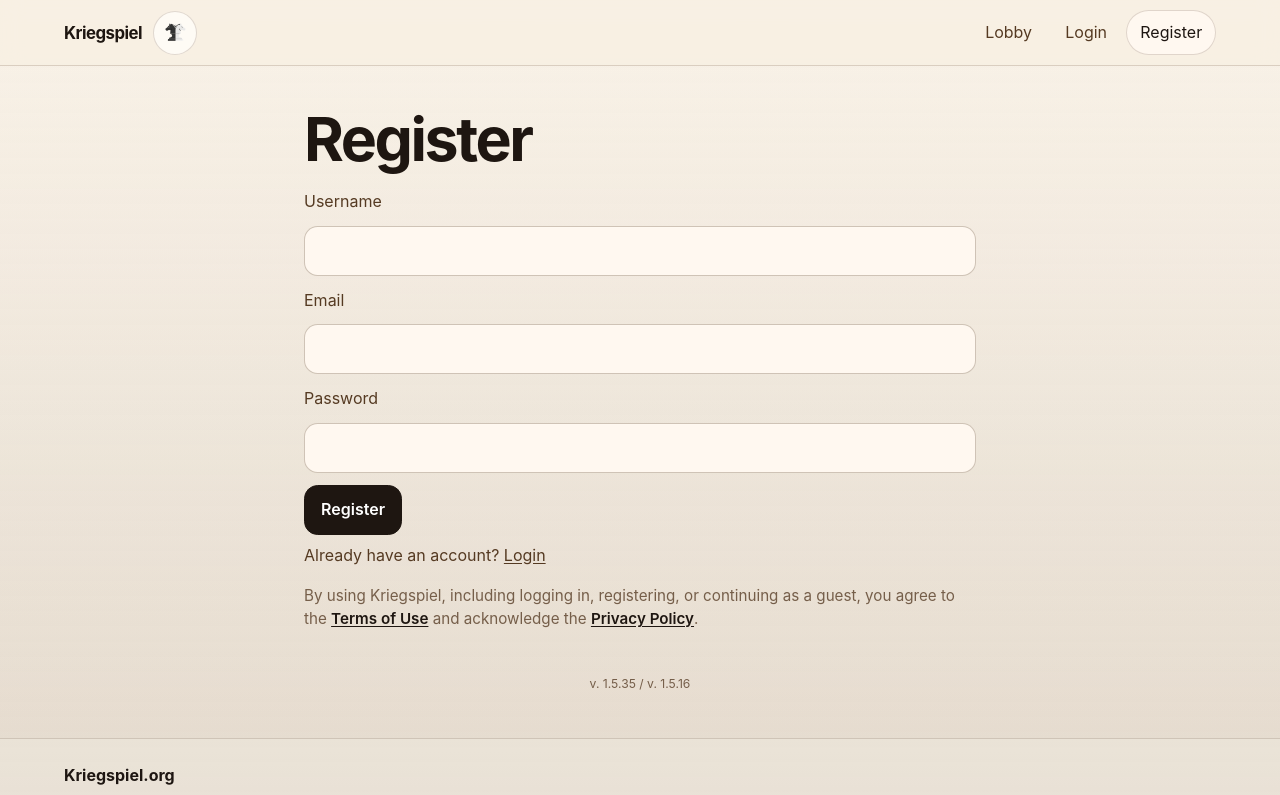
Test case: App routes › register_requires_username_email_password_and_redirects_to_lobby
Type "new_user" into the field labelled "Username" at (640, 251), box [304,226,976,276]
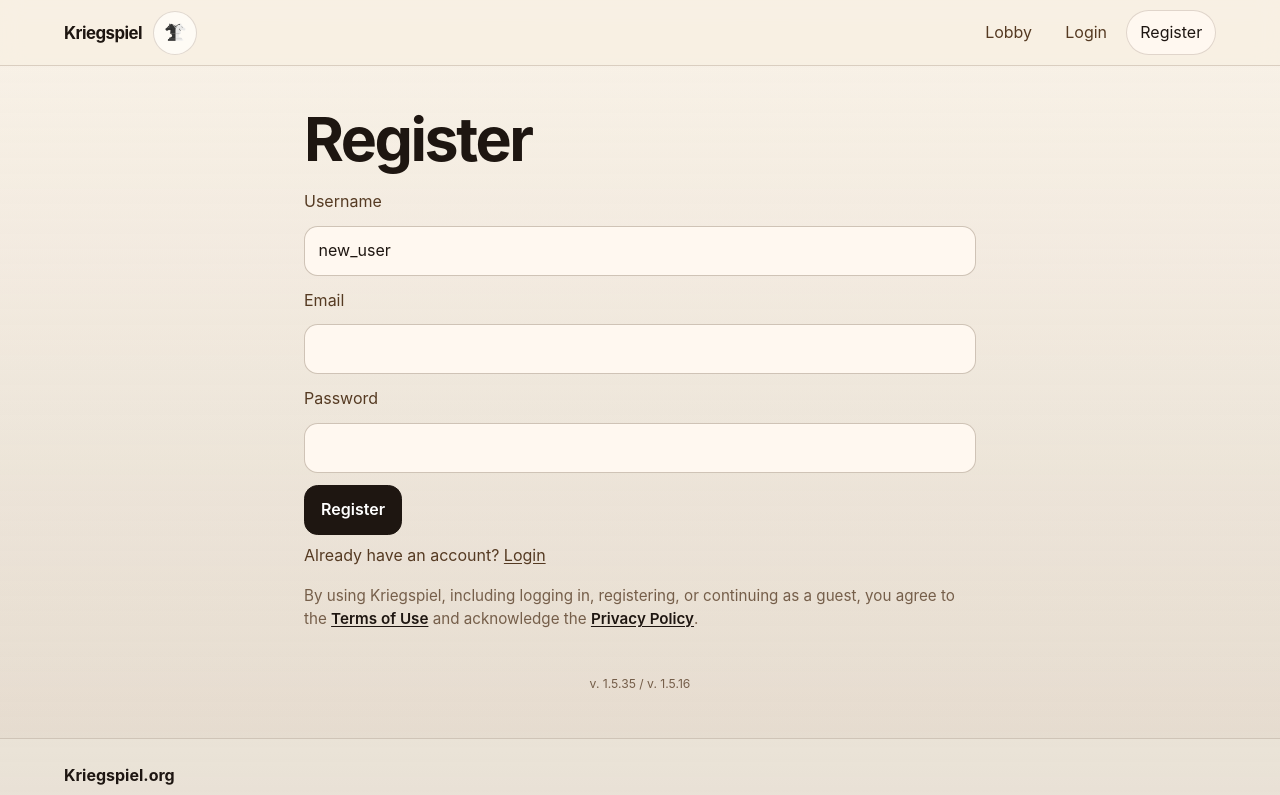
Type "new@example.com" into the field labelled "Email" at (640, 349), box [304,324,976,374]
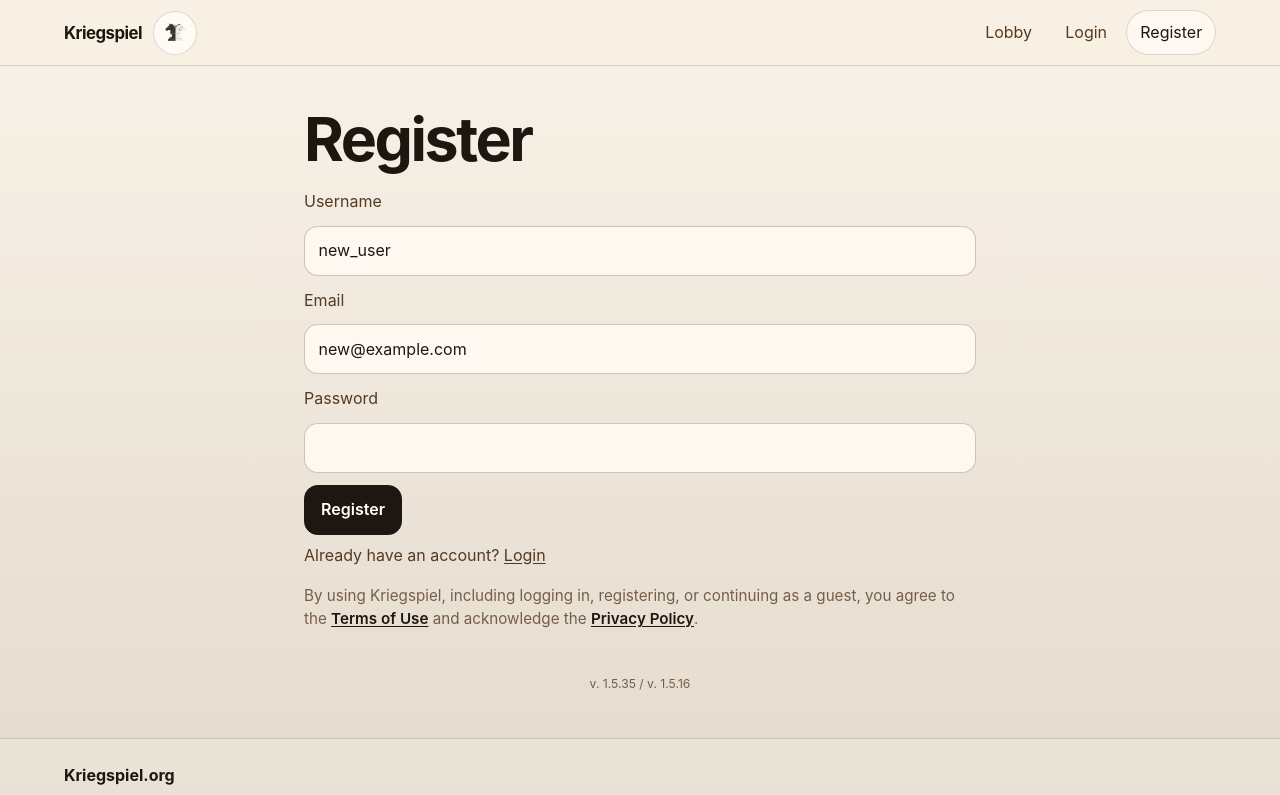
Type "secret123" into the password field labelled "Password" at (640, 448), box [304,423,976,473]
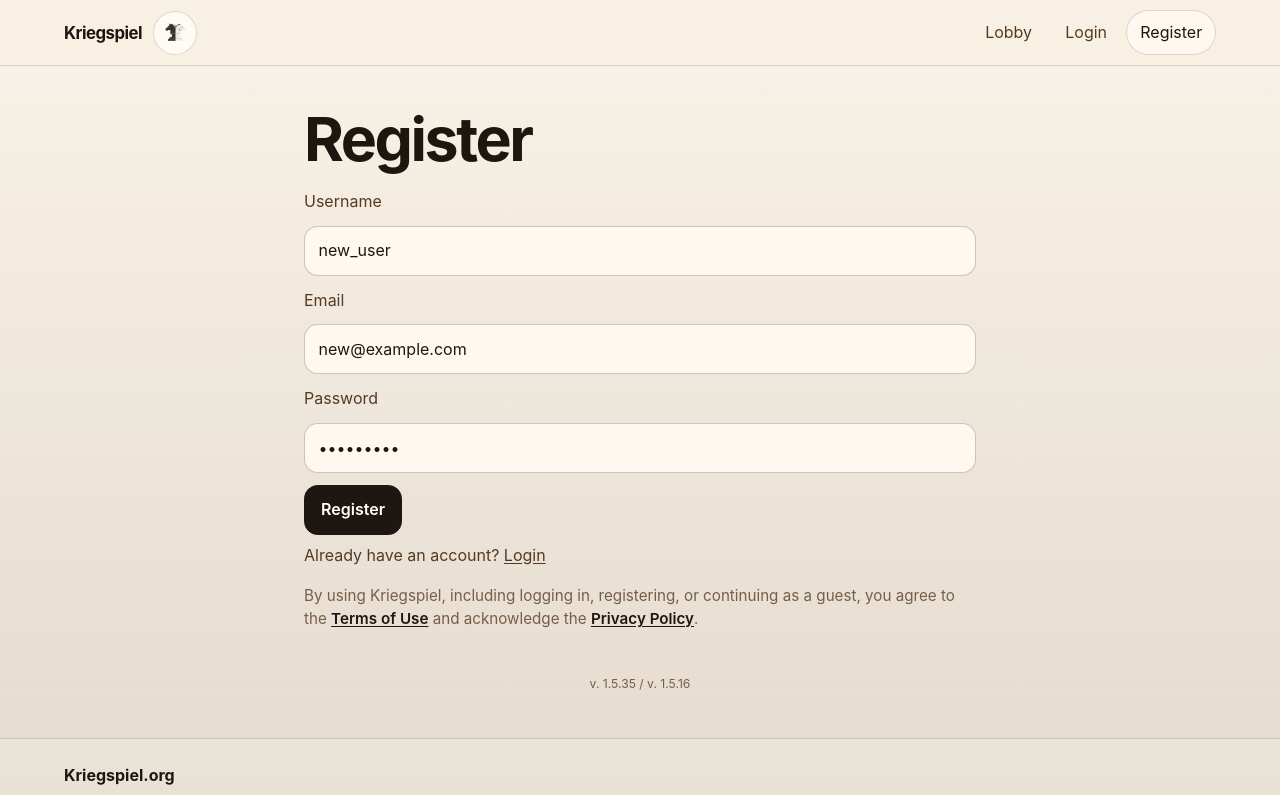
Click the button "Register" at (353, 510), box [304,485,402,535]
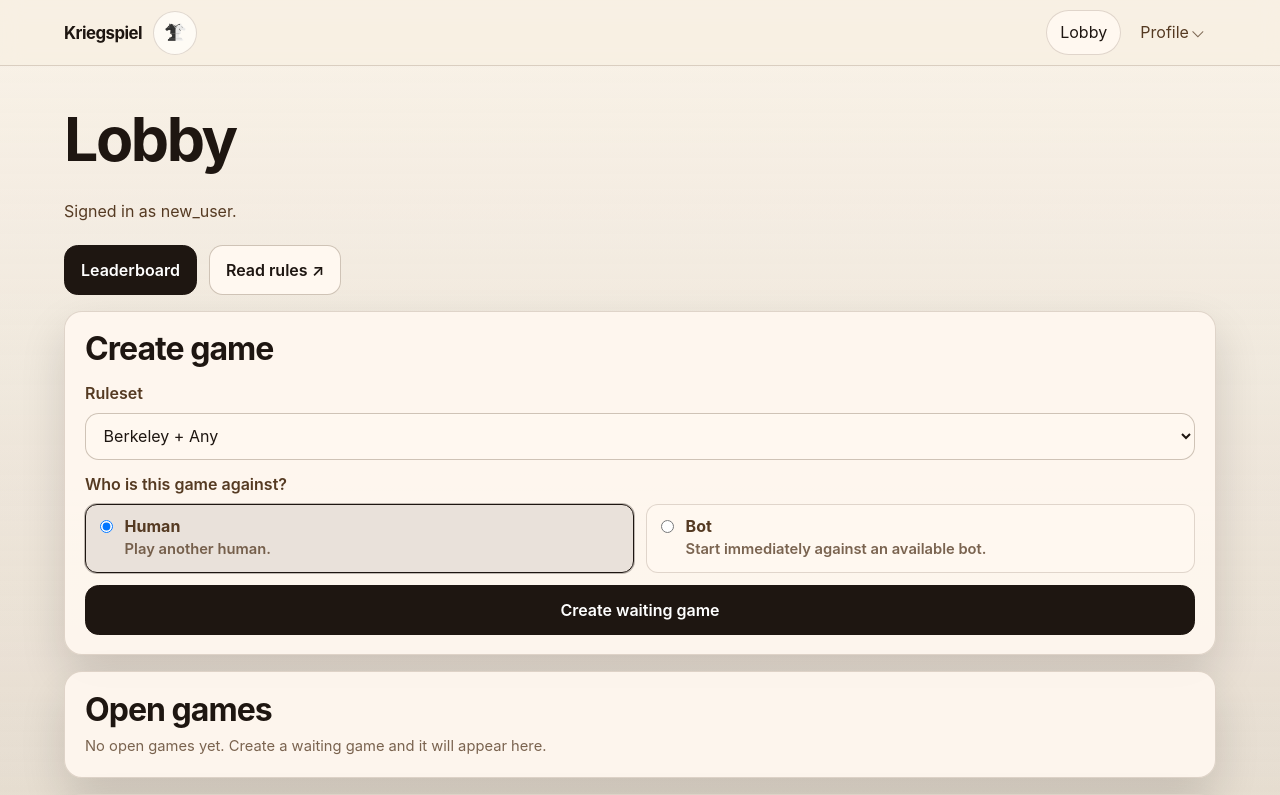
Expected: the heading "Lobby" is shown, [64,106,236,173]
